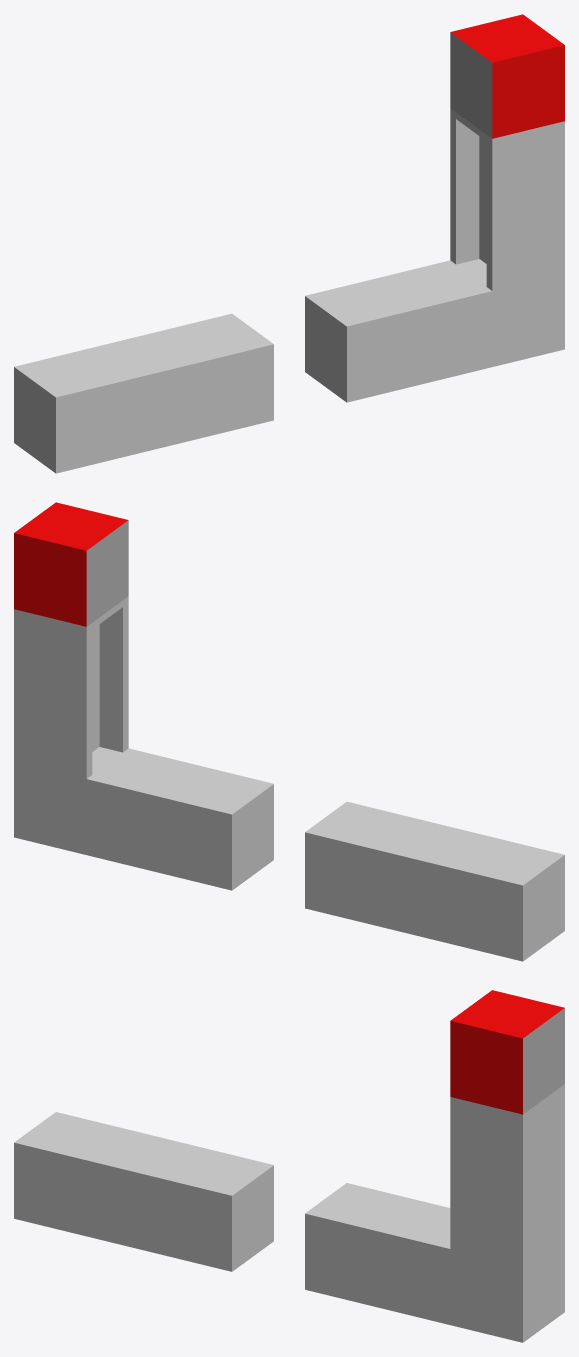
Rendered from Level1_Instance.fbx.
The picture shows the model from 3 angles, top to bottom: view 1: azimuth 30°, elevation 25°; view 2: azimuth 150°, elevation 25°; view 3: azimuth 330°, elevation 25°; orthographic projection.
Visible parts, largest first — view 1: Box001, Box002, Box003; view 2: Box001, Box002, Box003; view 3: Box001, Box002, Box003.
Boxes of the visible parts, x1=… form: Box001: x1=305, y1=108, x2=564, y2=402; Box002: x1=14, y1=313, x2=273, y2=473; Box003: x1=450, y1=14, x2=564, y2=138; Box001: x1=14, y1=596, x2=273, y2=890; Box002: x1=305, y1=801, x2=564, y2=961; Box003: x1=14, y1=502, x2=128, y2=626; Box001: x1=305, y1=1084, x2=564, y2=1342; Box002: x1=14, y1=1112, x2=273, y2=1271; Box003: x1=450, y1=990, x2=564, y2=1114.
Bounding box in the file's own units: 14 × 8 × 2.
